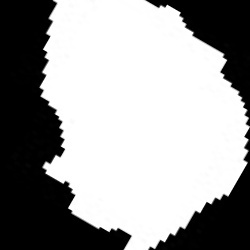spot: (39, 2, 250, 249)
